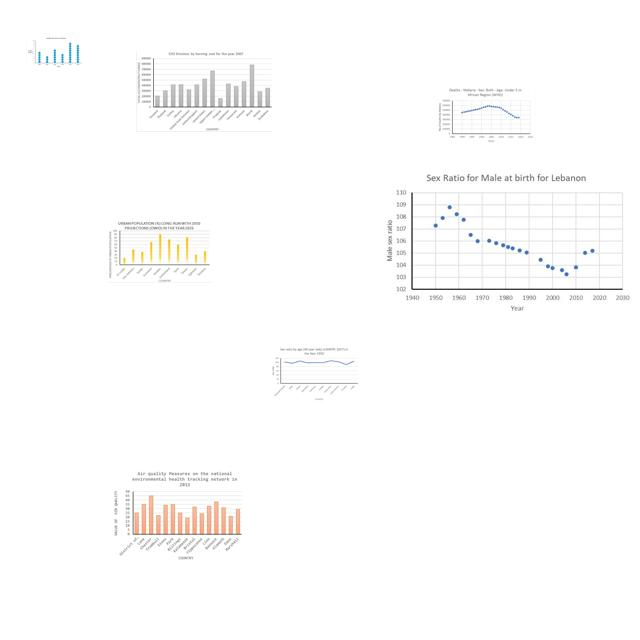Graph: (377, 167, 636, 320), (112, 470, 246, 563), (136, 51, 273, 132), (107, 220, 212, 283), (436, 86, 536, 144), (269, 346, 359, 402), (26, 36, 83, 69)
